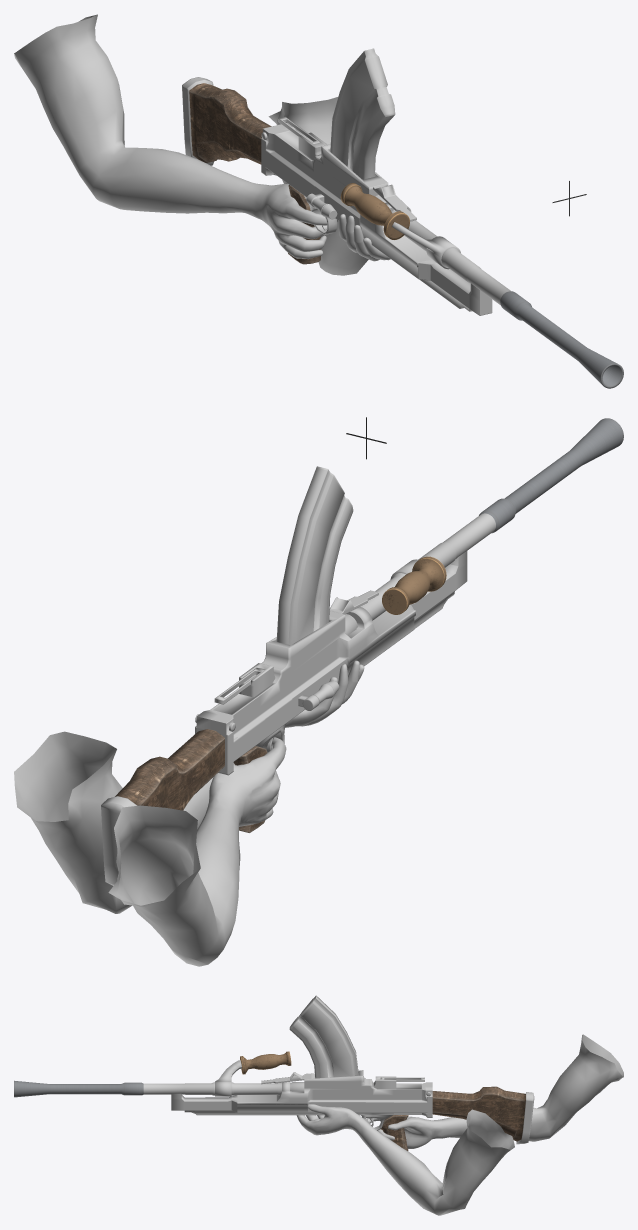
File: Bren Light Machine Gun.obj
3 views of the same model, one above another, from view 1: azimuth 30°, elevation 25°; view 2: azimuth 150°, elevation 25°; view 3: azimuth 270°, elevation 25° (orthographic). The views are drawn at different scales.
Visible parts, largest first — view 1: Base_Male_Mesh.001_Plane05.002, Cylinder.019_Cylinder.020, Cylinder.000; view 2: Base_Male_Mesh.001_Plane05.002, Cylinder.019_Cylinder.020, Cylinder.000; view 3: Cylinder.019_Cylinder.020, Base_Male_Mesh.001_Plane05.002, Cylinder.000.
Boxes of the visible parts, <box> form: Base_Male_Mesh.001_Plane05.002: <box>14,14,390,275</box>; Cylinder.019_Cylinder.020: <box>182,77,623,388</box>; Cylinder.000: <box>330,48,395,179</box>; Base_Male_Mesh.001_Plane05.002: <box>14,660,364,966</box>; Cylinder.019_Cylinder.020: <box>101,418,623,885</box>; Cylinder.000: <box>276,466,353,645</box>; Cylinder.019_Cylinder.020: <box>14,1051,534,1150</box>; Base_Male_Mesh.001_Plane05.002: <box>296,1034,623,1215</box>; Cylinder.000: <box>289,995,358,1078</box>.
Bounding box in the file's own units: 13.9 × 17.06 × 48.
